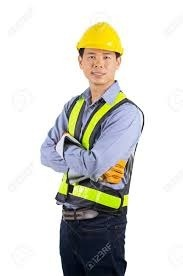helmet: (73, 19, 127, 59)
person with full safety: (40, 20, 146, 275)
safety vest: (59, 92, 137, 215)
